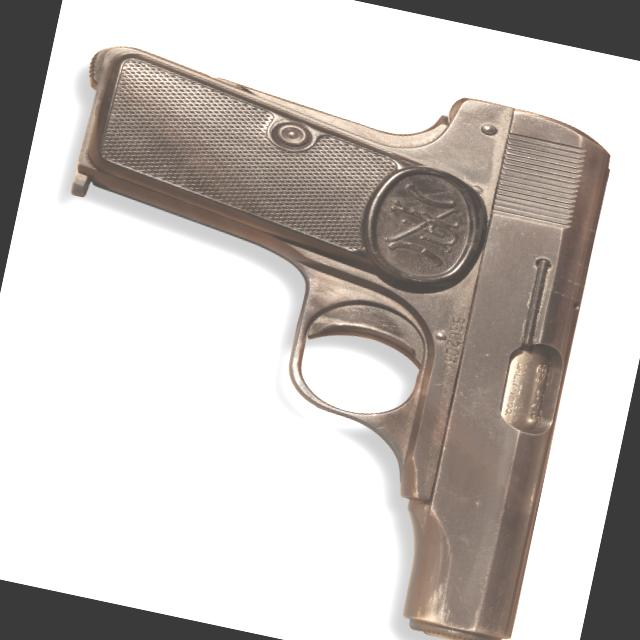handgun: (0, 9, 626, 635)
